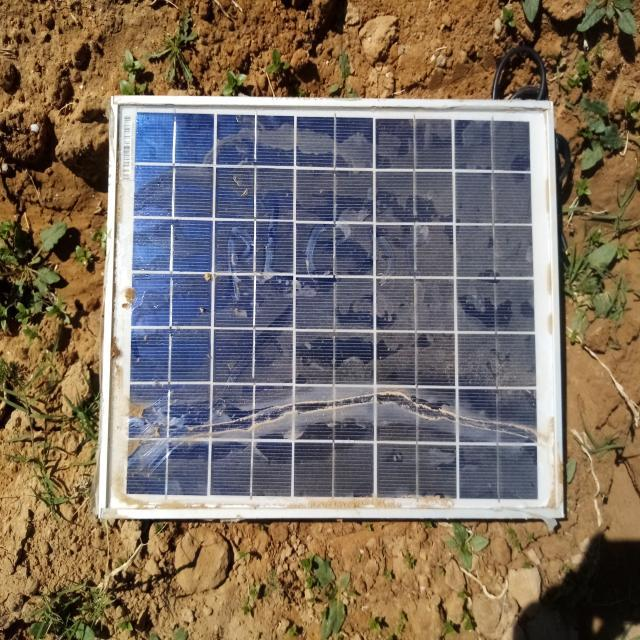faulty: (101, 101, 562, 515)
